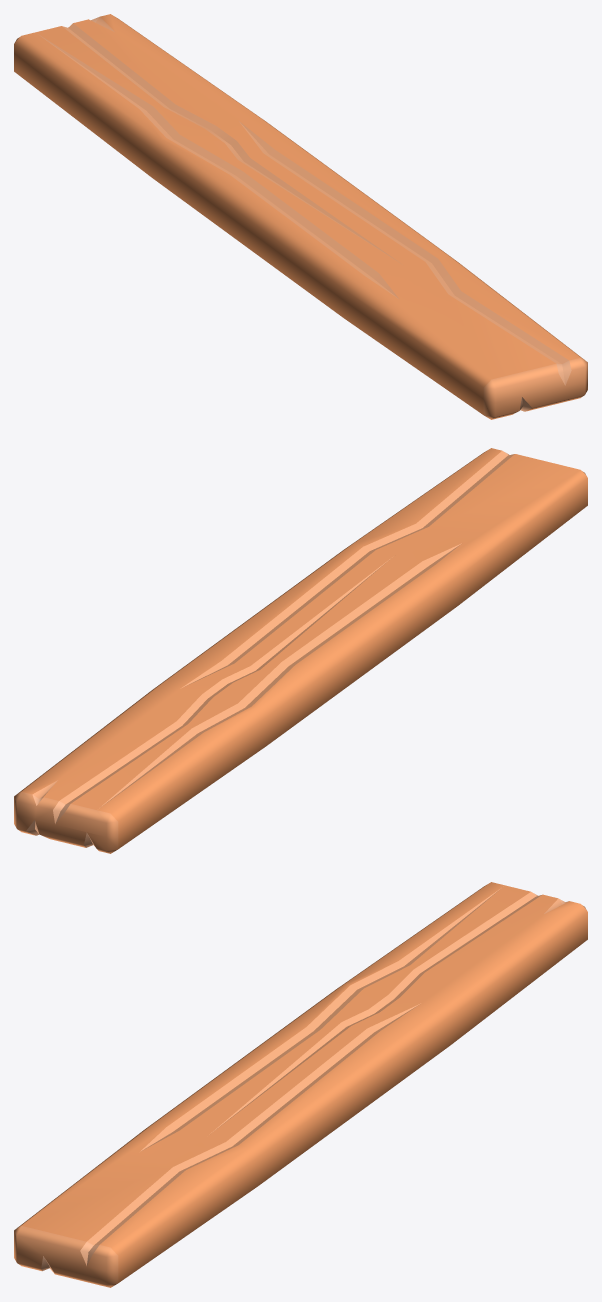
The model's file is wood_001.fbx.
The picture shows the model from 3 angles, top to bottom: view 1: azimuth 30°, elevation 25°; view 2: azimuth 150°, elevation 25°; view 3: azimuth 330°, elevation 25°; orthographic projection.
Visible parts, largest first — view 1: wood_001; view 2: wood_001; view 3: wood_001.
Part boxes in pixels (left/top/right/bottom): wood_001: left=14, top=14, right=587, bottom=419; wood_001: left=14, top=448, right=587, bottom=853; wood_001: left=14, top=882, right=587, bottom=1287.
Size of the model in its own units: 70.91 by 517 by 26.27.
